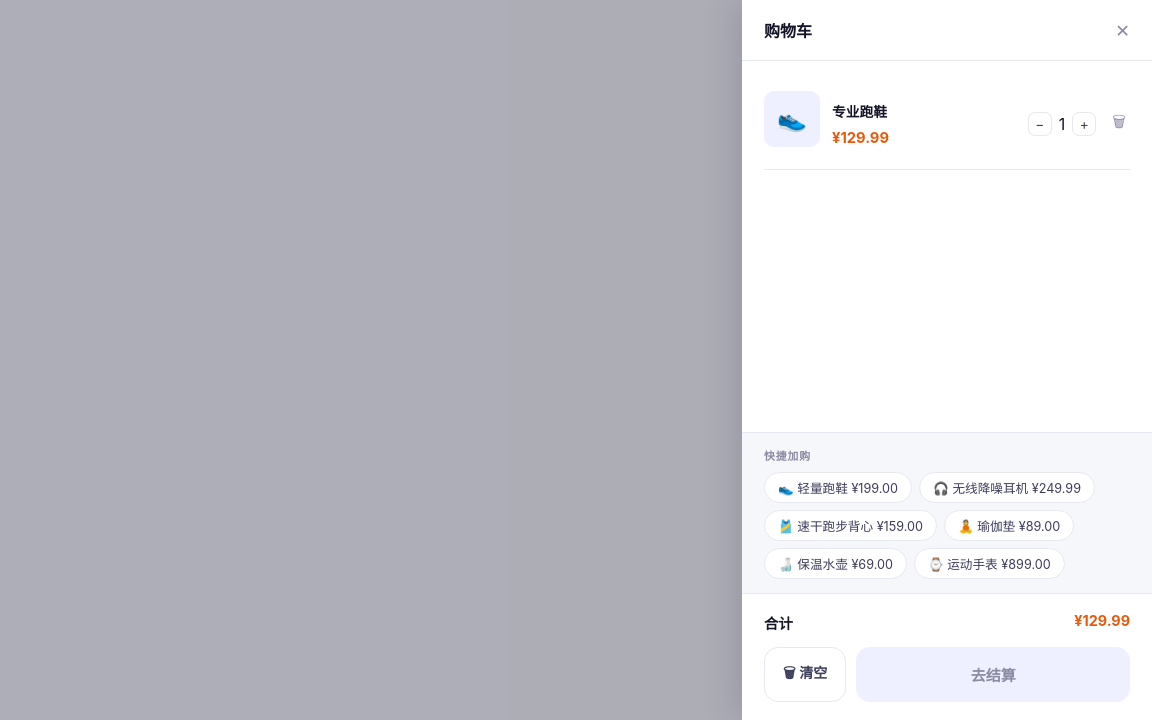
Test: 加购入口（R10-2） › 加购成功给出可见提示「已加入购物车：<商品名>」
expect the text "专业跑鞋" is shown: met, box top-left (832, 104), bottom-right (887, 120)
Click the button "🎧 无线降噪耳机 ¥249.99" at (1007, 488), box top-left (919, 472), bottom-right (1095, 503)
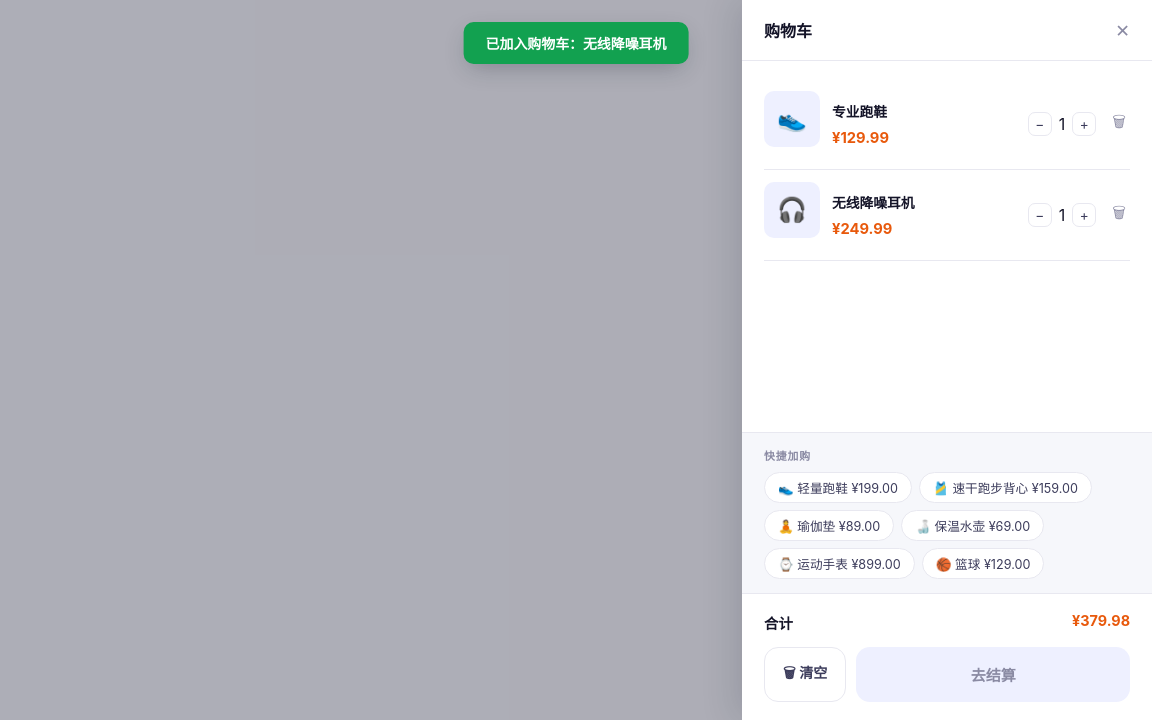
expect the message reads "已加入购物车：无线降噪耳机": met, box top-left (486, 36), bottom-right (666, 52)
